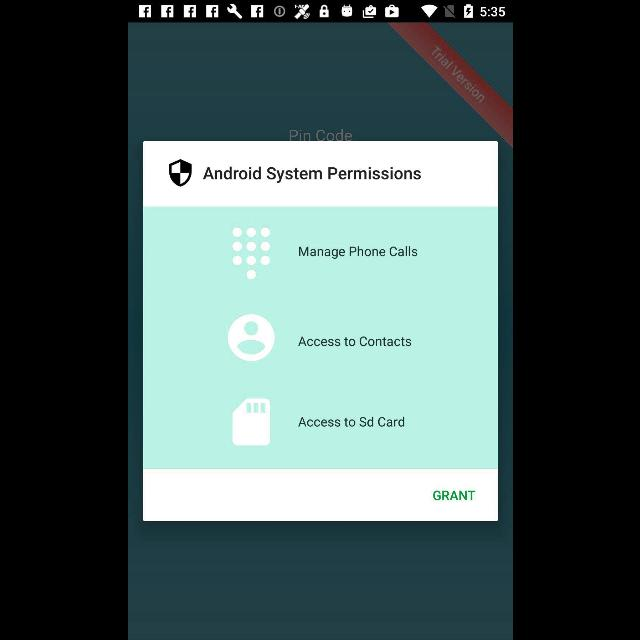icon: (228, 314, 274, 362), (232, 398, 270, 446)
image: (231, 228, 269, 280), (168, 160, 192, 187)
panel: (143, 141, 497, 521)
text: (202, 166, 420, 184), (299, 247, 417, 260), (298, 417, 404, 427), (298, 338, 410, 347), (432, 490, 474, 500)
uppertaskbar: (128, 1, 512, 23)
